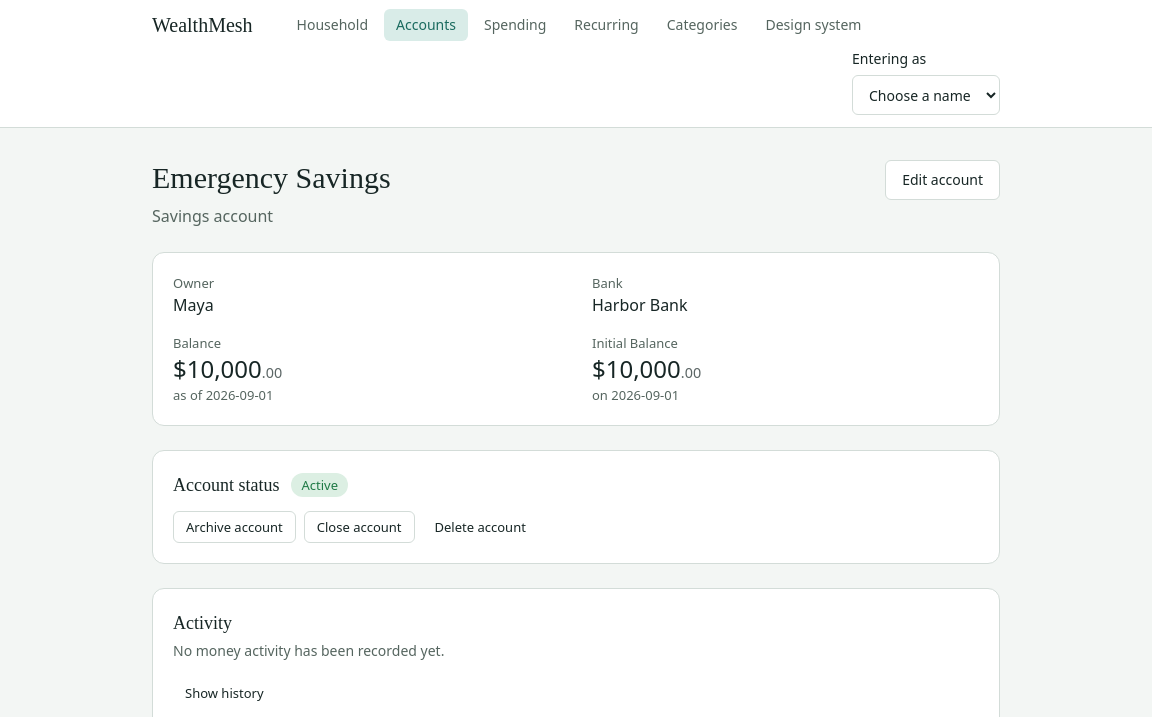
Test case: editing a savings account › V2_SAVINGS_003 renames, changes owner and bank and leaves the balance to Update balance
Click the link "Edit account" at (943,180), box [885, 160, 1000, 200]
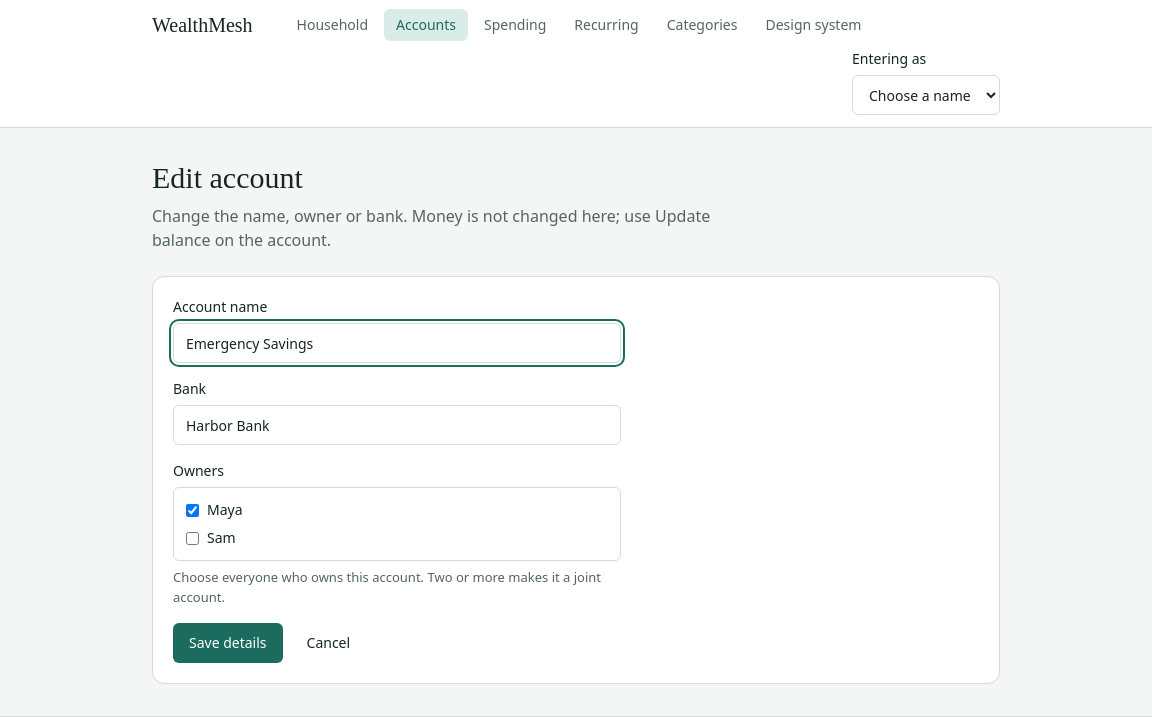
Replace the text in the field labelled "Account name" with "Household Emergency Fund" at (397,343), box [173, 323, 621, 363]
Click the checkbox labelled "Sam" at (192,538), box [186, 532, 199, 544]
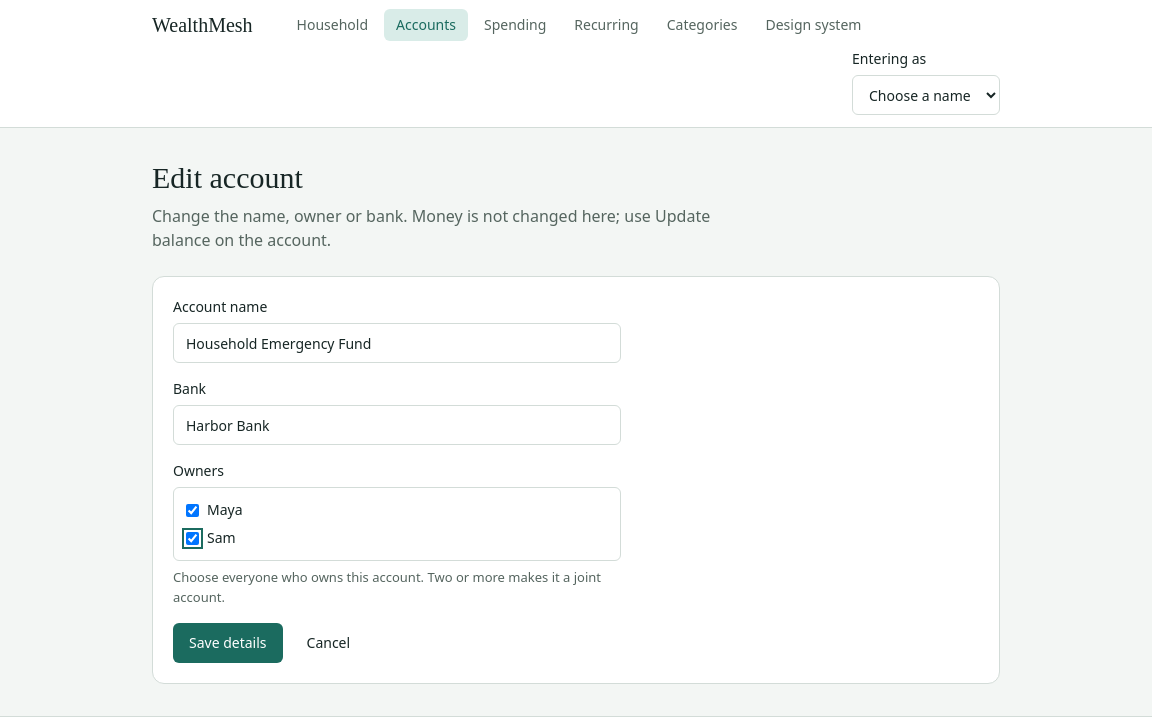
Click the checkbox labelled "Maya" at (192,510), box [186, 504, 199, 516]
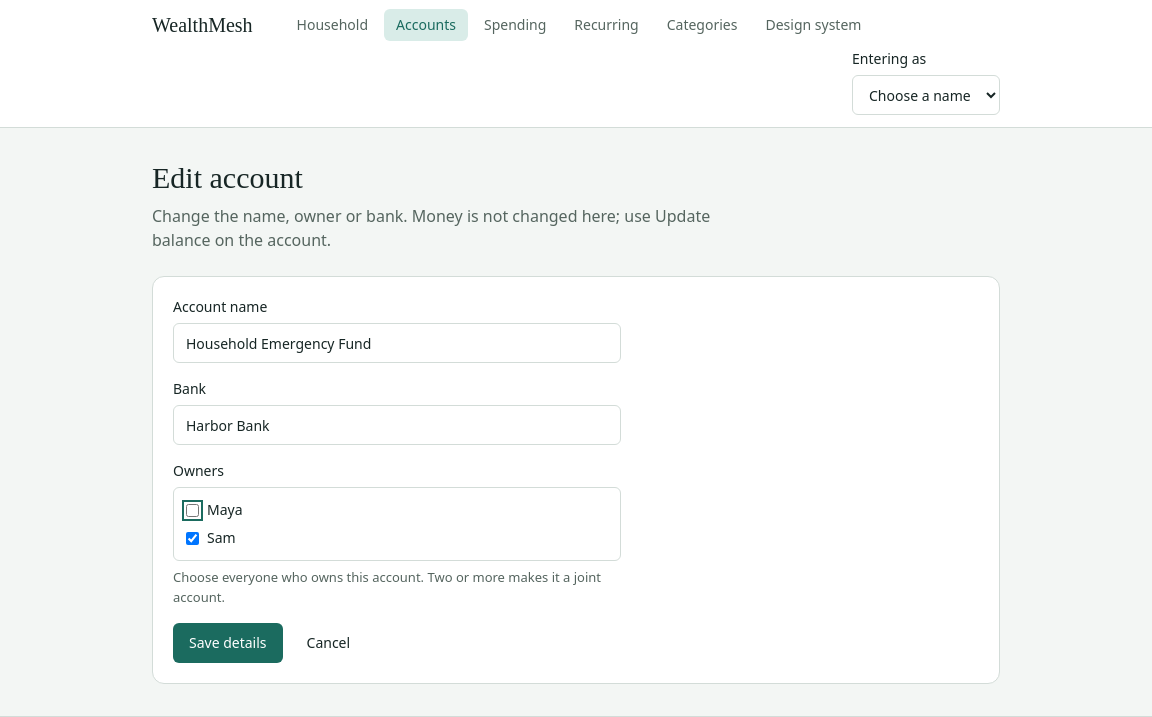
Replace the text in the field labelled "Bank" with "Harbor Credit Union" at (397,425), box [173, 405, 621, 445]
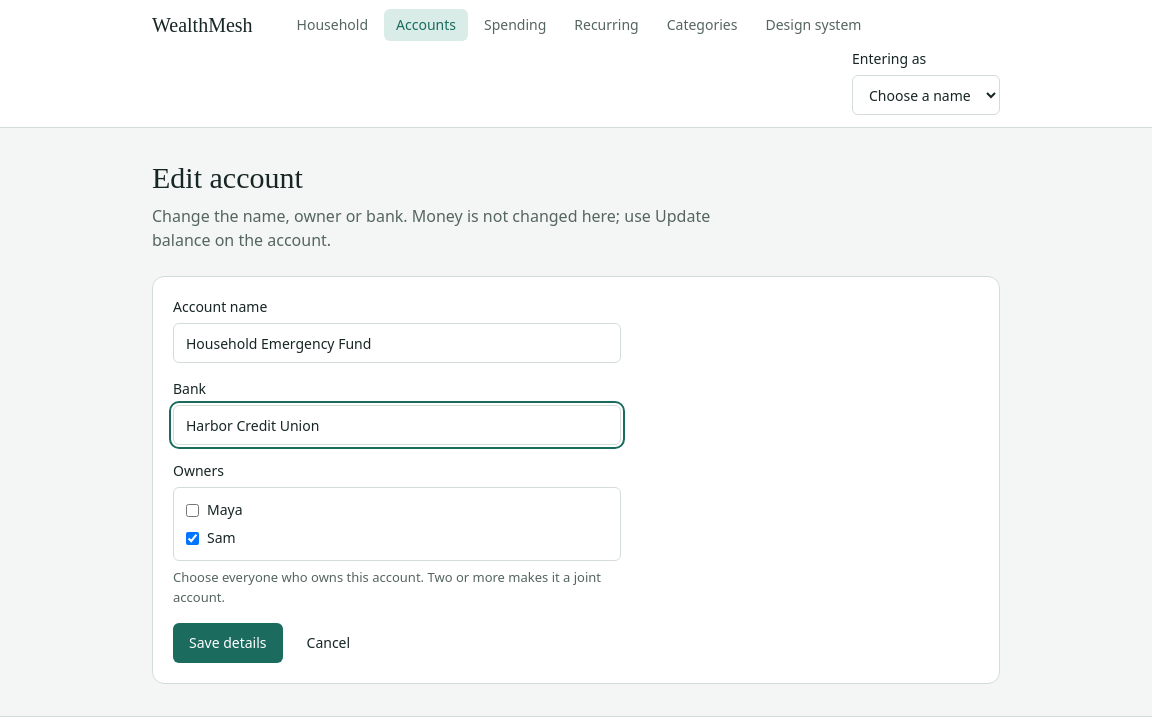
Click the button "Save details" at (228,643), box [173, 623, 282, 663]
(page scrolled)
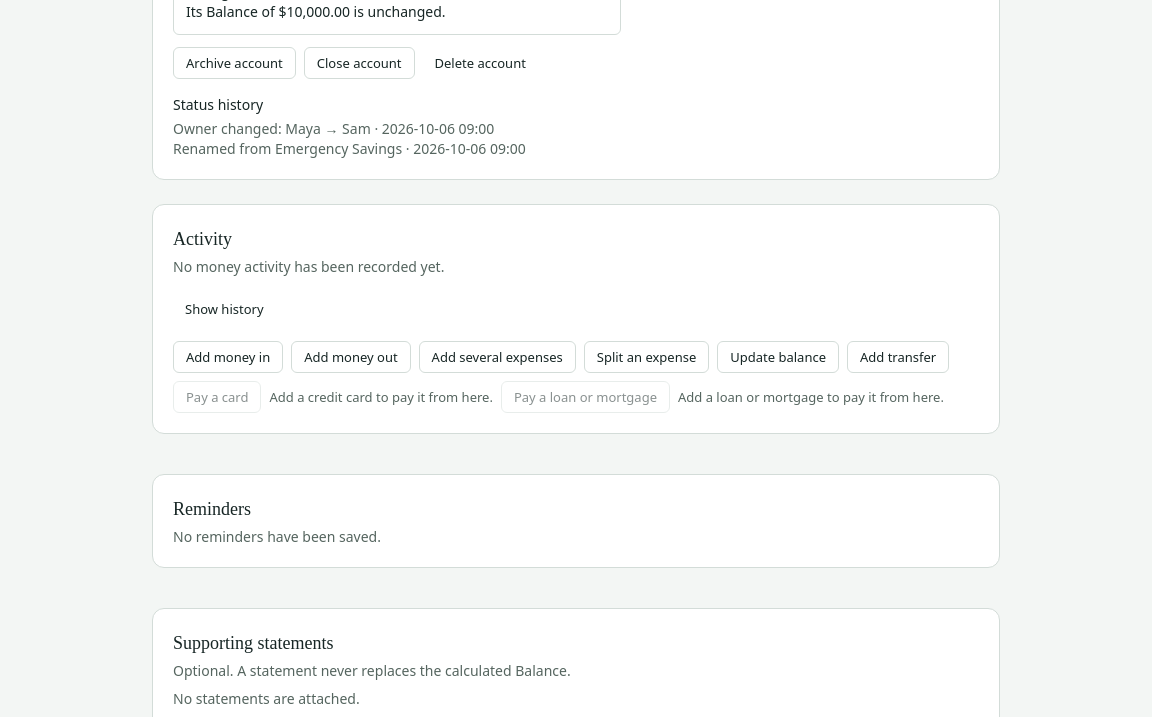
Click the button "Update balance" at (778,357), box [717, 341, 839, 373]
(page scrolled)
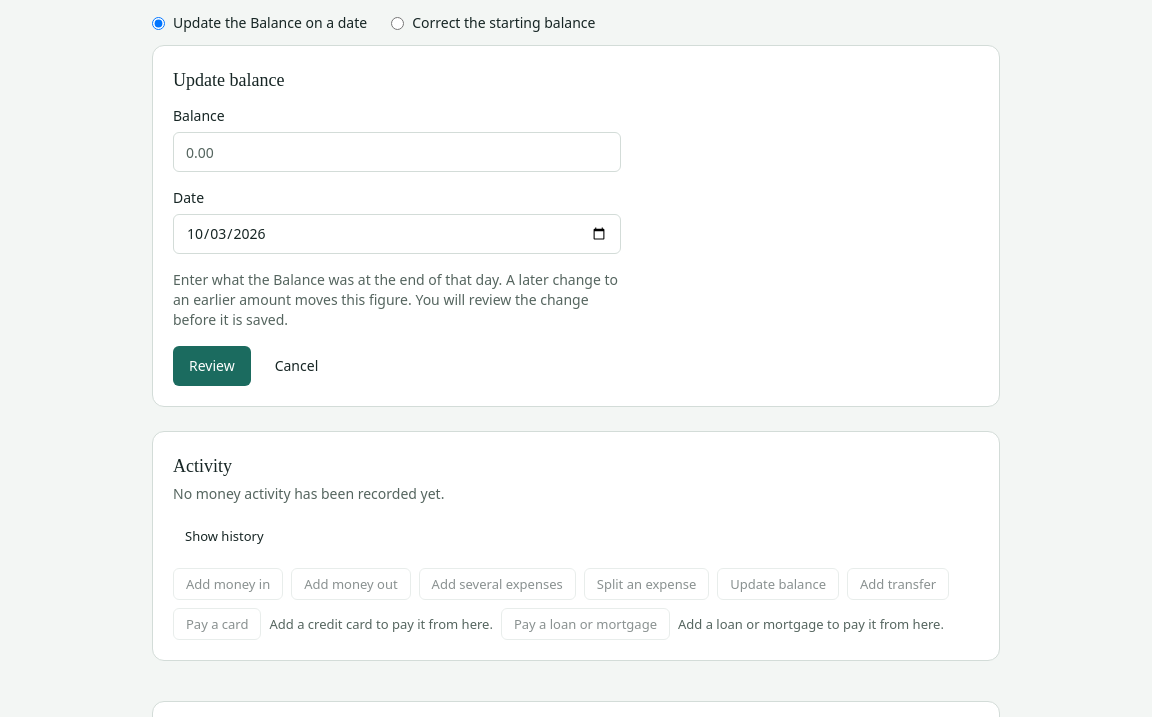
Expected: the date field labelled "Date" is shown, [173, 214, 621, 254]
